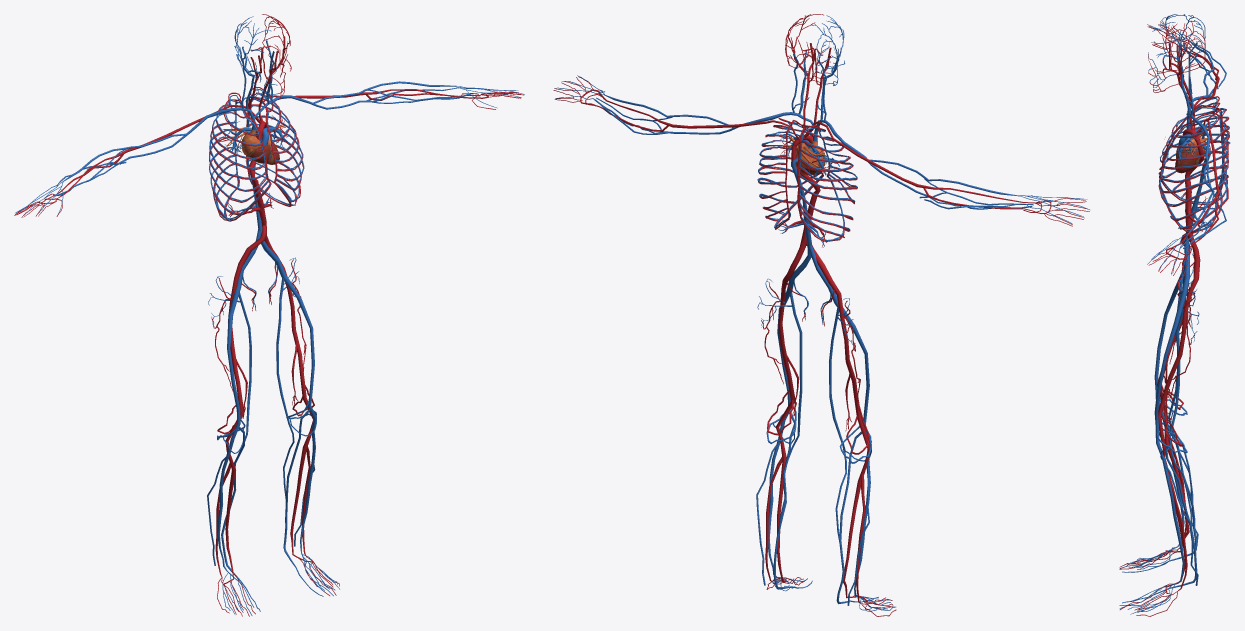
The model's file is Circulatory System Turbosquid.FBX.
The picture shows the model from 3 angles, left to right: view 1: azimuth 30°, elevation 25°; view 2: azimuth 150°, elevation 25°; view 3: azimuth 270°, elevation 25°; orthographic projection. The views are drawn at different scales.
Visible parts, largest first — view 1: Circulatory_Veins, Circulatory_Arteries, Circulatory_Heart; view 2: Circulatory_Veins, Circulatory_Arteries; view 3: Circulatory_Veins, Circulatory_Arteries, Circulatory_Heart.
Boxes of the visible parts, x1,y1,x2,y2 form: Circulatory_Veins: (15, 16, 524, 615); Circulatory_Arteries: (14, 14, 523, 616); Circulatory_Heart: (226, 125, 285, 164); Circulatory_Veins: (554, 15, 1089, 611); Circulatory_Arteries: (553, 14, 1089, 616); Circulatory_Veins: (1119, 14, 1230, 614); Circulatory_Arteries: (1119, 20, 1229, 616); Circulatory_Heart: (1175, 123, 1207, 173).
Bounding box in the file's own units: 67.02 × 71.91 × 12.65.
